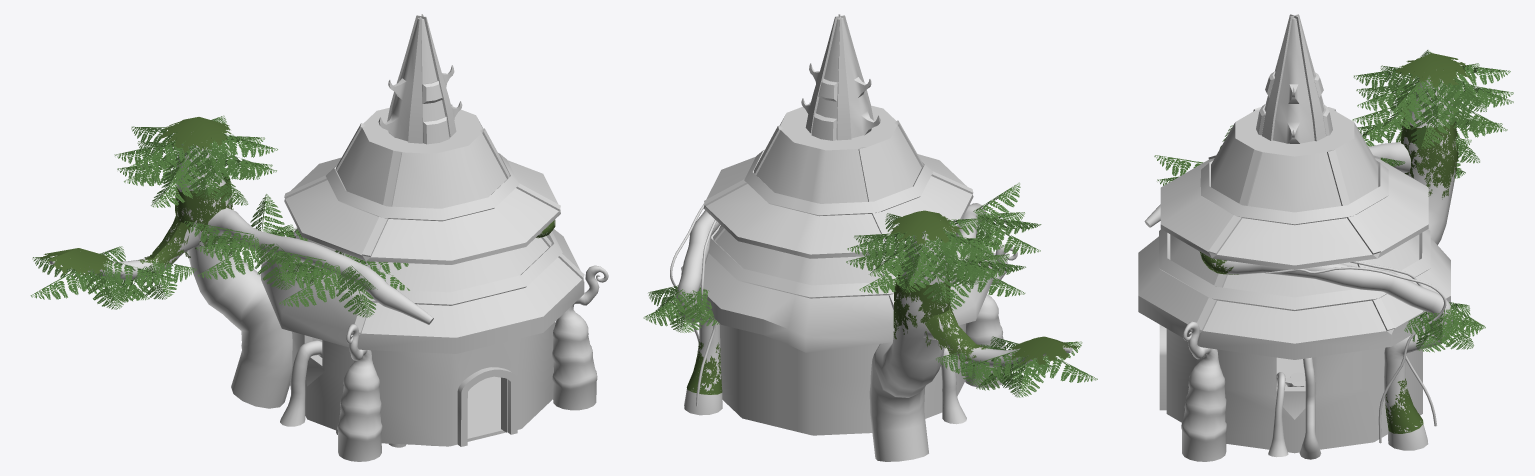
File: HomeOfTheGreenHouseAssembledRev.fbx
3 views of the same model, side by side, from view 1: azimuth 30°, elevation 25°; view 2: azimuth 150°, elevation 25°; view 3: azimuth 270°, elevation 25° (orthographic). The views are drawn at different scales.
Visible parts, largest first — view 1: HouseCylinderbase, Housetree, HouseSpire_1, Treebranch2, LargeRoot_1, LargeRoot_2, ClylinderFloor, HouseFrontArchSmall_1, LeafAlpha3, DeskRoots, LeafAlpha3_1, LeafAlpha2 (+24 smaller); view 2: HouseCylinderbase, Housetree, HouseSpire_1, HouseVine3_1, LargeRoot_1, LeafAlpha3, LeafAlpha2_4, LeafAlpha3_1, DeskRoots, Treebranch1, HouseVineDecal, LeafAlpha2_3 (+22 smaller); view 3: HouseCylinderbase, HouseVine3_1, HouseSpire_1, LargeRoot_2, Housetree, LeafAlpha2_3, LeafAlpha3, HouseVine1, HouseVineDecal, SmallHouseVine1_1, Treebranch2, HouseVine2 (+23 smaller).
Part boxes in pixels (x1,y1,x2,y2): HouseCylinderbase: (261, 104, 584, 446); Housetree: (176, 132, 292, 408); HouseSpire_1: (378, 14, 462, 144); Treebranch2: (207, 207, 433, 324); LargeRoot_1: (337, 324, 382, 461); LargeRoot_2: (552, 265, 608, 410); ClylinderFloor: (421, 376, 506, 446); HouseFrontArchSmall_1: (457, 367, 517, 446); LeafAlpha3: (159, 117, 231, 152); DeskRoots: (280, 340, 322, 426); LeafAlpha3_1: (39, 248, 111, 274); LeafAlpha2: (186, 176, 233, 253); HouseCylinderbase: (681, 102, 995, 435); Housetree: (869, 231, 947, 461); HouseSpire_1: (801, 14, 880, 140); HouseVine3_1: (676, 210, 722, 415); LargeRoot_1: (965, 244, 1017, 387); LeafAlpha3: (890, 210, 962, 244); LeafAlpha2_4: (925, 306, 987, 361); LeafAlpha3_1: (1010, 336, 1080, 365); DeskRoots: (941, 346, 966, 424); Treebranch1: (923, 311, 1072, 368); HouseVineDecal: (686, 339, 722, 394); LeafAlpha2_3: (893, 272, 921, 339); HouseCylinderbase: (1138, 107, 1450, 453); HouseVine3_1: (1200, 252, 1452, 450); HouseSpire_1: (1256, 14, 1332, 143); LargeRoot_2: (1181, 321, 1226, 461); Housetree: (1402, 77, 1456, 244); LeafAlpha2_3: (1414, 121, 1458, 199); LeafAlpha3: (1396, 53, 1470, 87); HouseVine1: (1299, 357, 1321, 459); HouseVineDecal: (1385, 378, 1423, 433); SmallHouseVine1_1: (1265, 266, 1446, 443); Treebranch2: (1144, 141, 1412, 227); HouseVine2: (1268, 372, 1288, 457).
Size of the model in its own units: 2746 by 2187 by 1901.
